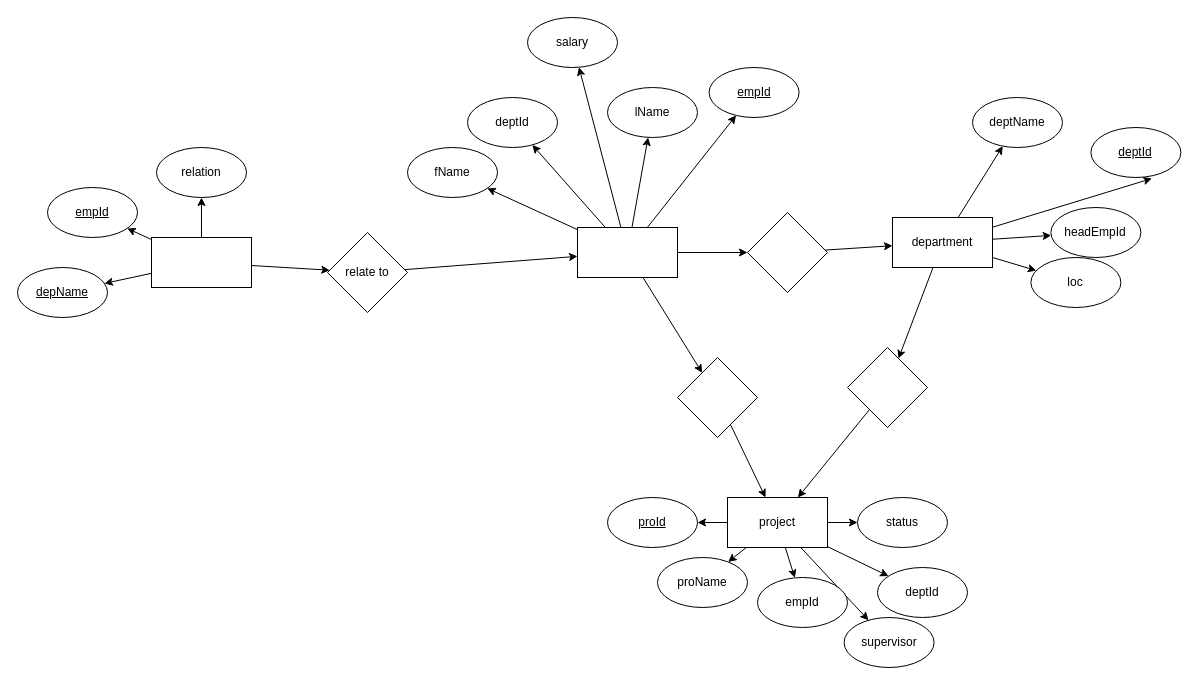
This 1199x685 diagram has some shape labels left out. The box of each missing label's shape, as (x1, y1, x2, y2) in pixels:
belongs to: (746, 212, 828, 292)
dependent: (150, 236, 252, 288)
employe: (576, 226, 678, 278)
takes on: (846, 346, 928, 428)
works on: (676, 356, 758, 438)
